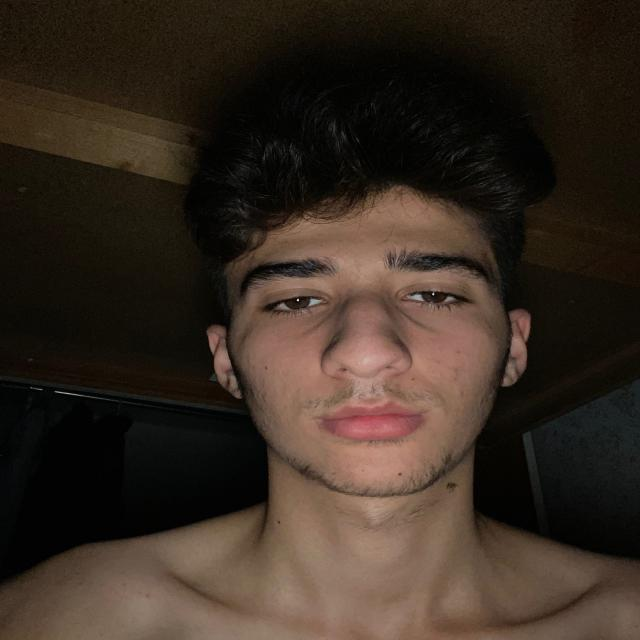Acne: (445, 374, 462, 383), (260, 391, 272, 403), (451, 367, 465, 377), (452, 348, 465, 357), (458, 389, 469, 399), (433, 358, 447, 364), (409, 377, 423, 383), (396, 469, 404, 476)
Eyebags: (250, 306, 339, 341), (391, 301, 494, 331)
